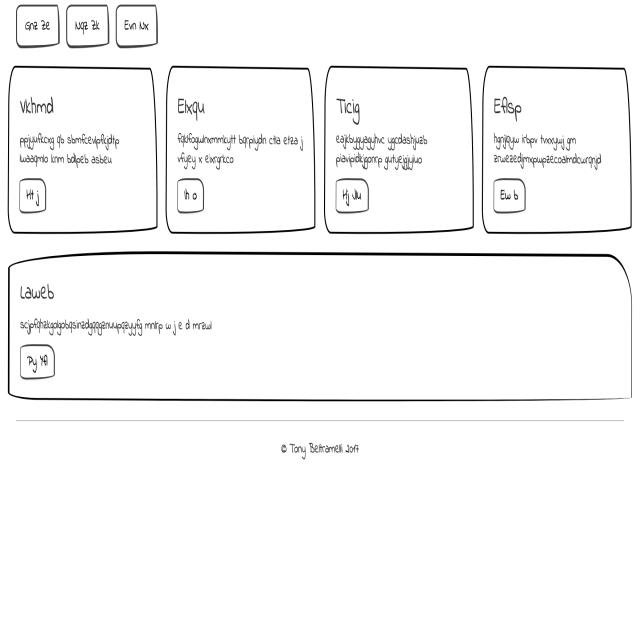Button: (332, 178, 372, 215), (493, 176, 529, 216), (18, 344, 56, 379), (20, 177, 47, 214)
Card: (7, 247, 633, 405), (481, 60, 633, 242), (6, 61, 160, 238), (166, 60, 318, 239), (324, 62, 474, 236), (174, 176, 206, 214)
Footer: (0, 413, 640, 640)
Heading 6: (172, 92, 210, 122), (490, 93, 526, 124), (334, 90, 361, 126), (18, 97, 60, 117), (18, 283, 58, 302)
Navigation Bar: (12, 2, 162, 50)
Paragraph: (175, 126, 308, 167), (490, 130, 607, 173), (19, 316, 215, 339), (18, 130, 122, 170), (332, 132, 435, 168)
